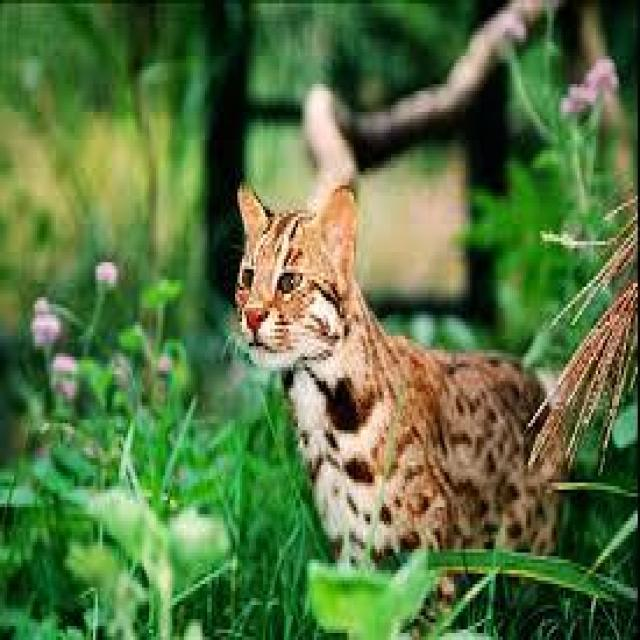leopard: (213, 159, 593, 640)
